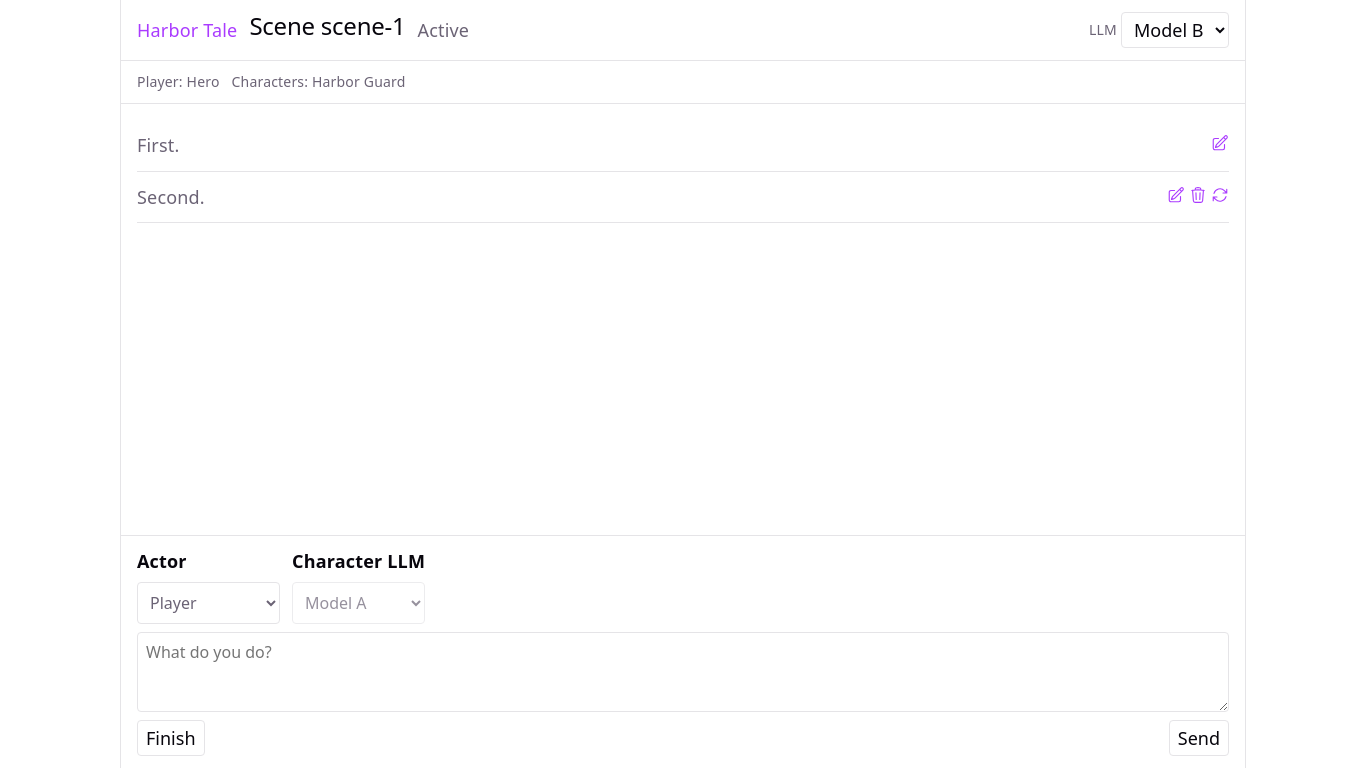
Test: CharacterScenePage › sends a player turn, appends the item and resets the composer
Expected: the text "First." is shown, left=137, top=133, right=180, bottom=157
Type "Look for light" into the text box named "Action".
click(683, 672); type("Look for light")  # box left=137, top=632, right=1229, bottom=712
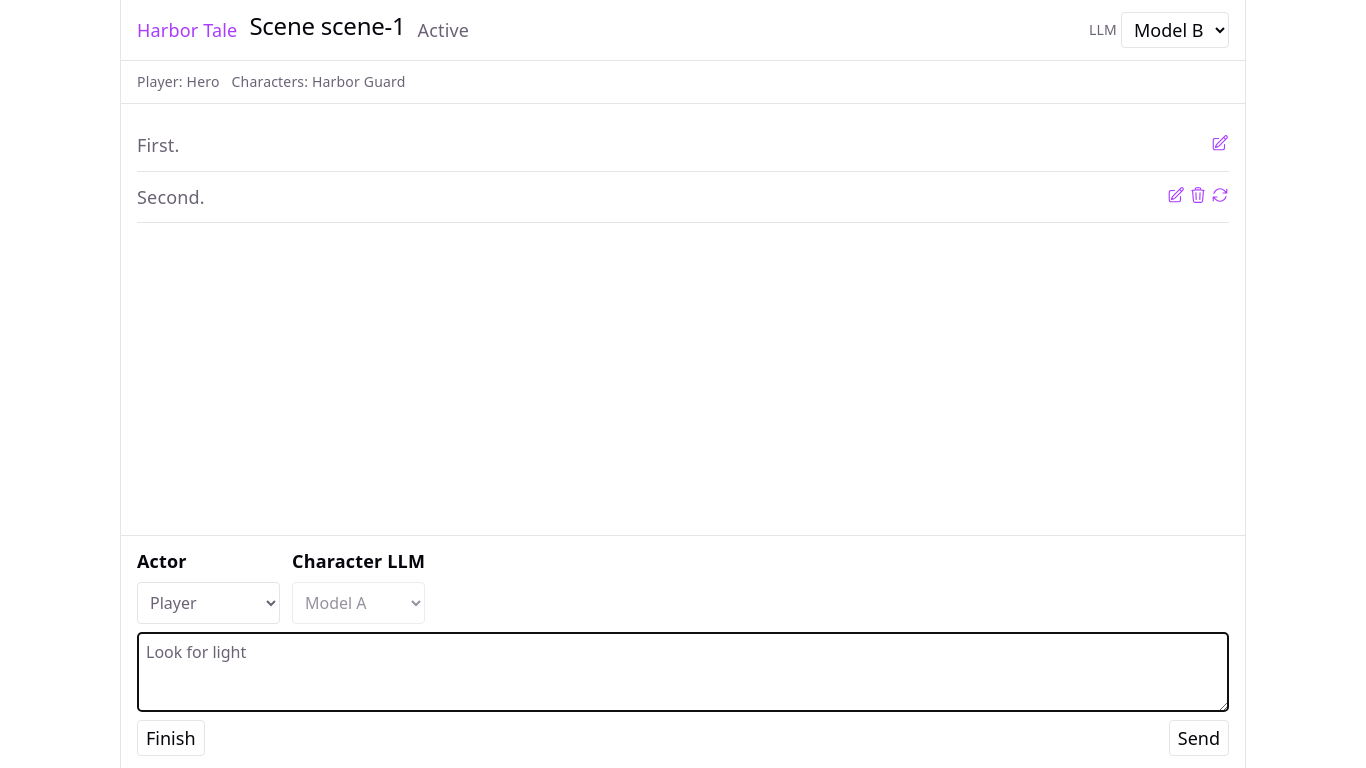
Click the button "Send".
click(1199, 738)  # box left=1169, top=720, right=1229, bottom=756
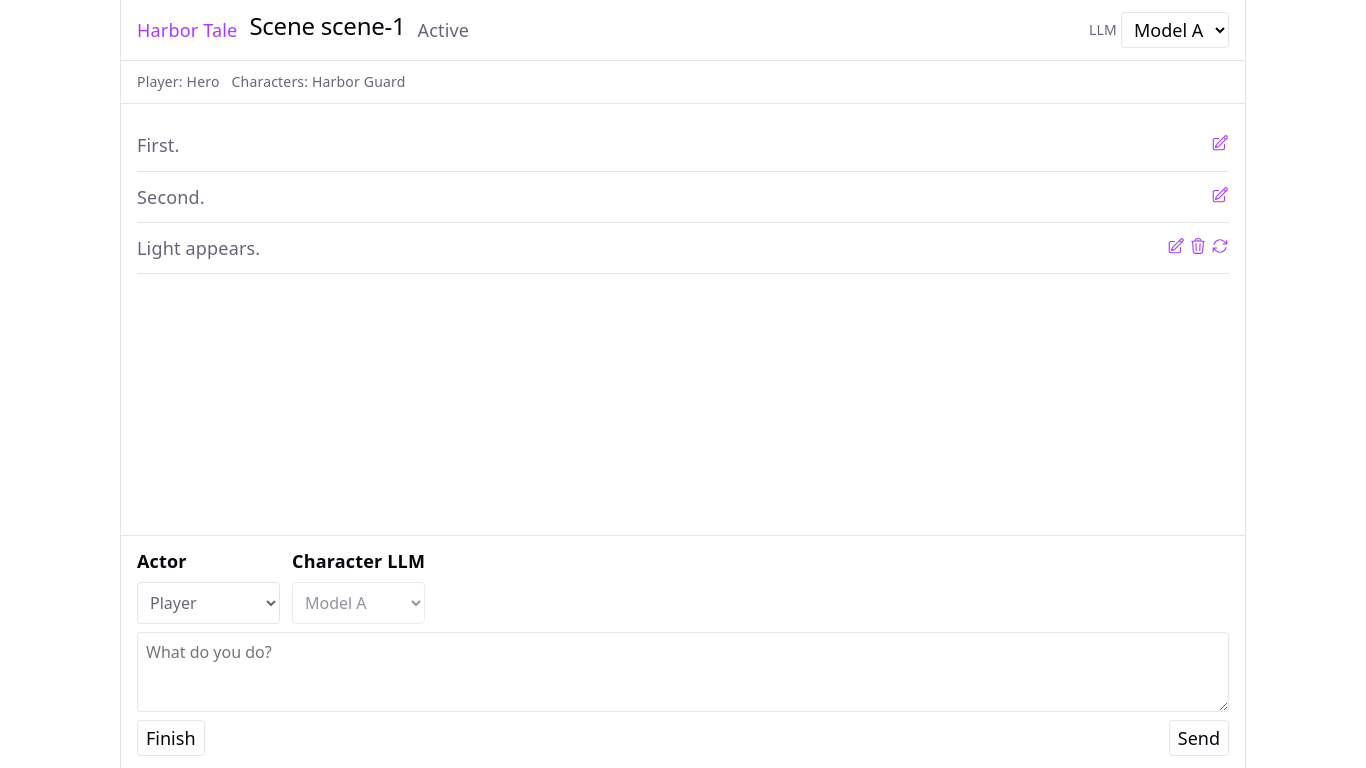
Expected: the text "Light appears." is shown, left=137, top=236, right=260, bottom=260
Expected: the text box named "Action" is empty, left=137, top=632, right=1229, bottom=712
Expected: the dropdown labelled "LLM" shows "Model A", left=1121, top=12, right=1229, bottom=48
